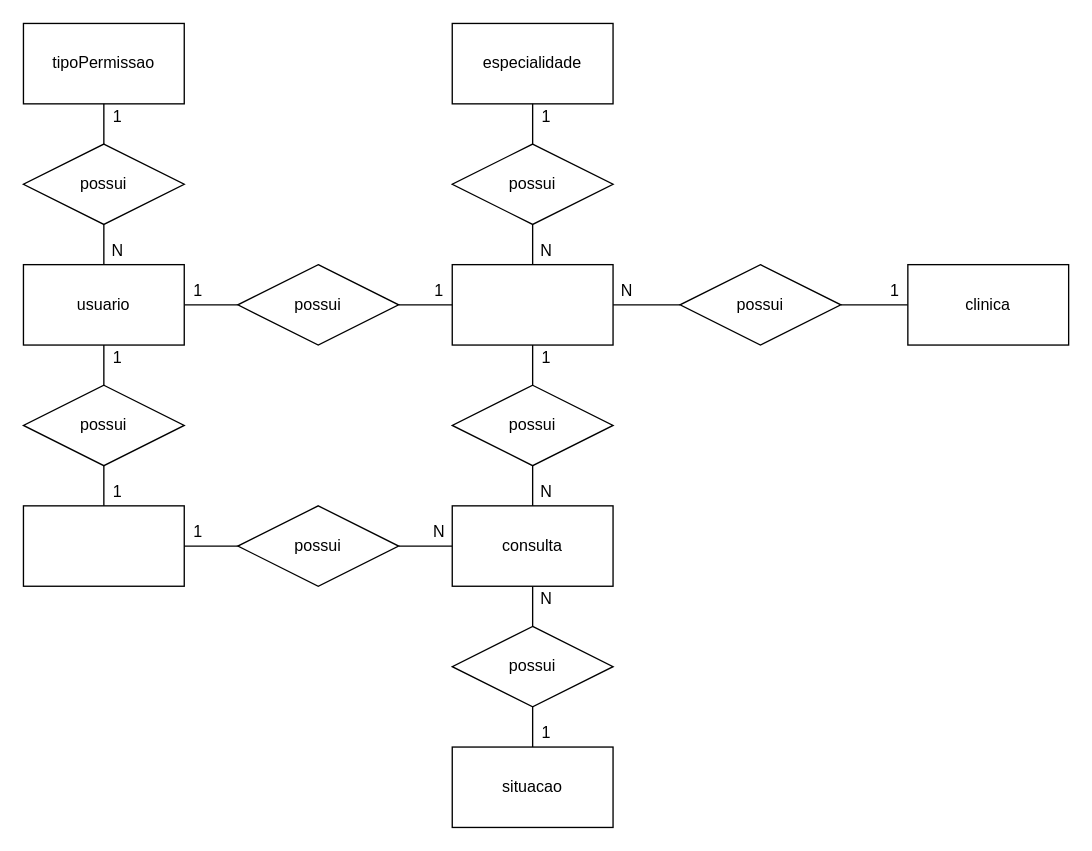
Image size: 1092x851. Some labels were removed from this diagram. The shapes that lost their labels are listed below. From the top down, each one's box as (x1, y1, x2, y2) in pixels, then its label:
(451, 263, 613, 345): medico
(22, 505, 184, 586): paciente
